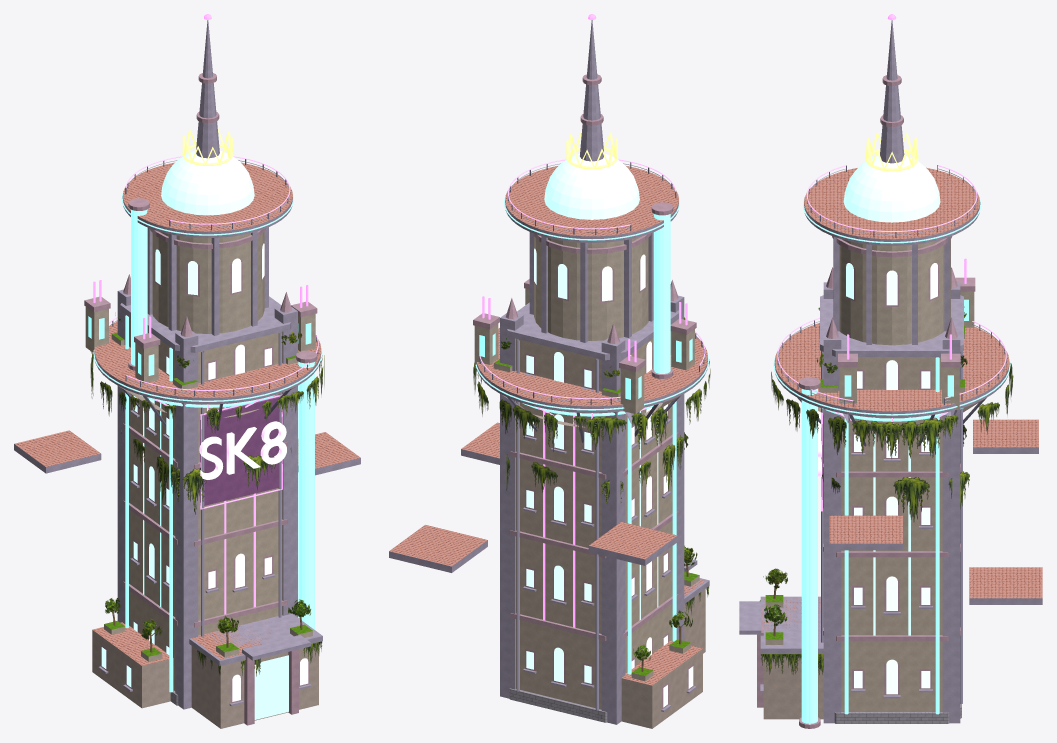
Rendered from SK8_TOWER.glb.
3 renders of one model, left to right at view 1: azimuth 30°, elevation 25°; view 2: azimuth 150°, elevation 25°; view 3: azimuth 270°, elevation 25°, orthographic. The views are drawn at different scales.
Visible parts, largest first — view 1: SK8_Body.001, SK8_Upper.001, SK8_Pads.001, SK8_SignText.001, SK8_Moss56.001, SK8_MossBody.001, SK8_Trees2.001; view 2: SK8_Body.001, SK8_Upper.001, SK8_Pads.001, SK8_Moss56.001, SK8_MossBody.001, SK8_Trees2.001; view 3: SK8_Body.001, SK8_Upper.001, SK8_Pads.001, SK8_Moss56.001, SK8_MossBody.001, SK8_Trees2.001, SK8_MossPorch.001.
Boxes of the visible parts, x1,y1,x2,y2 form: SK8_Body.001: (92,274,322,728); SK8_Upper.001: (84,14,322,629); SK8_Pads.001: (14,430,360,475); SK8_SignText.001: (199,421,286,479); SK8_Moss56.001: (90,353,324,432); SK8_MossBody.001: (121,429,291,514); SK8_Trees2.001: (105,598,311,652); SK8_Body.001: (500,280,709,728); SK8_Upper.001: (473,14,709,442); SK8_Pads.001: (389,422,677,572); SK8_Moss56.001: (473,361,710,451); SK8_MossBody.001: (506,432,688,503); SK8_Trees2.001: (633,545,697,671); SK8_Body.001: (739,267,963,723); SK8_Upper.001: (773,14,1010,728); SK8_Pads.001: (829,419,1042,604); SK8_Moss56.001: (771,363,1013,458); SK8_MossBody.001: (822,424,969,522); SK8_Trees2.001: (763,568,787,636); SK8_MossPorch.001: (760,600,823,674).
Bounding box in the file's own units: 40.5 × 102 × 41.3.
20 materials, 8 textured.
